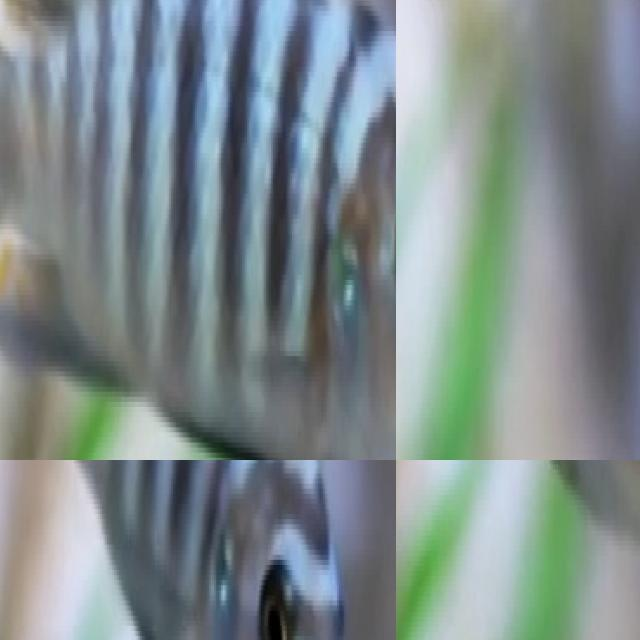fish: (0, 0, 396, 460), (0, 460, 359, 640)
